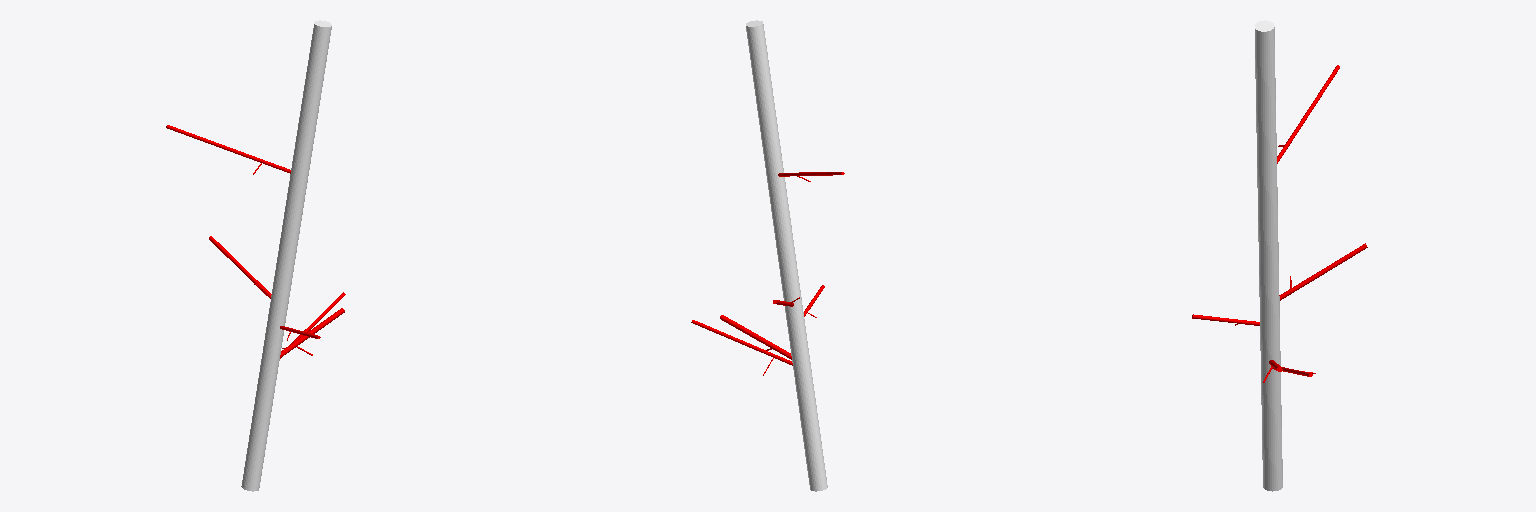
URDF robot description (tree_20.urdf):
<?xml version='1.0' encoding='UTF-8'?>
<robot name="tree_20.urdf">
  <link name="branch_0">
    <inertial>
      <origin xyz="0.0 0.0 0.0" rpy="0.0 -0.0 0.0"/>
      <mass value="0.1"/>
      <inertia ixx="0.001" ixy="0.0" ixz="0.0" iyy="0.001" iyz="0.0" izz="0.001"/>
    </inertial>
    <visual name="branch_0_visual">
      <geometry>
        <cylinder radius="0.18038426023424908" length="9.975201876077824"/>
      </geometry>
      <material name="branch_material"/>
      <origin xyz="0.7904359133537642 -0.07586227465981246 4.923984067733228" rpy="0.0 0.15988878451544758 -0.09568217184069576"/>
    </visual>
    <collision name="branch_0_collision">
      <geometry>
        <cylinder radius="0.18038426023424908" length="9.975201876077824"/>
      </geometry>
      <origin xyz="0.7904359133537642 -0.07586227465981246 4.923984067733228" rpy="0.0 0.15988878451544758 -0.09568217184069576"/>
    </collision>
  </link>
  <link name="branch_1">
    <inertial>
      <origin xyz="0.0 0.0 0.0" rpy="0.0 -0.0 0.0"/>
      <mass value="0.1"/>
      <inertia ixx="0.001" ixy="0.0" ixz="0.0" iyy="0.001" iyz="0.0" izz="0.001"/>
    </inertial>
    <visual name="branch_1_visual">
      <geometry>
        <cylinder radius="0.03774474441758952" length="2.400189508375378"/>
      </geometry>
      <material name="semantic_material"/>
      <origin xyz="0.0 0.0 0.0" rpy="0.0 -0.0 0.0"/>
    </visual>
    <collision name="branch_1_collision">
      <geometry>
        <cylinder radius="0.03774474441758952" length="2.400189508375378"/>
      </geometry>
      <origin xyz="0.0 0.0 0.0" rpy="0.0 -0.0 0.0"/>
    </collision>
  </link>
  <link name="branch_2">
    <inertial>
      <origin xyz="0.0 0.0 0.0" rpy="0.0 -0.0 0.0"/>
      <mass value="0.1"/>
      <inertia ixx="0.001" ixy="0.0" ixz="0.0" iyy="0.001" iyz="0.0" izz="0.001"/>
    </inertial>
    <visual name="branch_2_visual">
      <geometry>
        <cylinder radius="0.010394430391979874" length="0.6589251296964387"/>
      </geometry>
      <material name="semantic_material"/>
      <origin xyz="0.0 0.0 0.0" rpy="0.0 -0.0 0.0"/>
    </visual>
    <collision name="branch_2_collision">
      <geometry>
        <cylinder radius="0.010394430391979874" length="0.6589251296964387"/>
      </geometry>
      <origin xyz="0.0 0.0 0.0" rpy="0.0 -0.0 0.0"/>
    </collision>
  </link>
  <link name="branch_3">
    <inertial>
      <origin xyz="0.0 0.0 0.0" rpy="0.0 -0.0 0.0"/>
      <mass value="0.1"/>
      <inertia ixx="0.001" ixy="0.0" ixz="0.0" iyy="0.001" iyz="0.0" izz="0.001"/>
    </inertial>
    <visual name="branch_3_visual">
      <geometry>
        <cylinder radius="0.037364034852852675" length="1.427845669590025"/>
      </geometry>
      <material name="semantic_material"/>
      <origin xyz="0.0 0.0 0.0" rpy="0.0 -0.0 0.0"/>
    </visual>
    <collision name="branch_3_collision">
      <geometry>
        <cylinder radius="0.037364034852852675" length="1.427845669590025"/>
      </geometry>
      <origin xyz="0.0 0.0 0.0" rpy="0.0 -0.0 0.0"/>
    </collision>
  </link>
  <link name="branch_4">
    <inertial>
      <origin xyz="0.0 0.0 0.0" rpy="0.0 -0.0 0.0"/>
      <mass value="0.1"/>
      <inertia ixx="0.001" ixy="0.0" ixz="0.0" iyy="0.001" iyz="0.0" izz="0.001"/>
    </inertial>
    <visual name="branch_4_visual">
      <geometry>
        <cylinder radius="0.011379667966109796" length="0.2482696978293131"/>
      </geometry>
      <material name="semantic_material"/>
      <origin xyz="0.0 0.0 0.0" rpy="0.0 -0.0 0.0"/>
    </visual>
    <collision name="branch_4_collision">
      <geometry>
        <cylinder radius="0.011379667966109796" length="0.2482696978293131"/>
      </geometry>
      <origin xyz="0.0 0.0 0.0" rpy="0.0 -0.0 0.0"/>
    </collision>
  </link>
  <link name="branch_5">
    <inertial>
      <origin xyz="0.0 0.0 0.0" rpy="0.0 -0.0 0.0"/>
      <mass value="0.1"/>
      <inertia ixx="0.001" ixy="0.0" ixz="0.0" iyy="0.001" iyz="0.0" izz="0.001"/>
    </inertial>
    <visual name="branch_5_visual">
      <geometry>
        <cylinder radius="0.03791955954352519" length="2.8474135622926844"/>
      </geometry>
      <material name="semantic_material"/>
      <origin xyz="0.0 0.0 0.0" rpy="0.0 -0.0 0.0"/>
    </visual>
    <collision name="branch_5_collision">
      <geometry>
        <cylinder radius="0.03791955954352519" length="2.8474135622926844"/>
      </geometry>
      <origin xyz="0.0 0.0 0.0" rpy="0.0 -0.0 0.0"/>
    </collision>
  </link>
  <link name="branch_6">
    <inertial>
      <origin xyz="0.0 0.0 0.0" rpy="0.0 -0.0 0.0"/>
      <mass value="0.1"/>
      <inertia ixx="0.001" ixy="0.0" ixz="0.0" iyy="0.001" iyz="0.0" izz="0.001"/>
    </inertial>
    <visual name="branch_6_visual">
      <geometry>
        <cylinder radius="0.013617512897016449" length="0.36079640535275176"/>
      </geometry>
      <material name="semantic_material"/>
      <origin xyz="0.0 0.0 0.0" rpy="0.0 -0.0 0.0"/>
    </visual>
    <collision name="branch_6_collision">
      <geometry>
        <cylinder radius="0.013617512897016449" length="0.36079640535275176"/>
      </geometry>
      <origin xyz="0.0 0.0 0.0" rpy="0.0 -0.0 0.0"/>
    </collision>
  </link>
  <link name="branch_7">
    <inertial>
      <origin xyz="0.0 0.0 0.0" rpy="0.0 -0.0 0.0"/>
      <mass value="0.1"/>
      <inertia ixx="0.001" ixy="0.0" ixz="0.0" iyy="0.001" iyz="0.0" izz="0.001"/>
    </inertial>
    <visual name="branch_7_visual">
      <geometry>
        <cylinder radius="0.05273118631981353" length="1.8994002233759717"/>
      </geometry>
      <material name="semantic_material"/>
      <origin xyz="0.0 0.0 0.0" rpy="0.0 -0.0 0.0"/>
    </visual>
    <collision name="branch_7_collision">
      <geometry>
        <cylinder radius="0.05273118631981353" length="1.8994002233759717"/>
      </geometry>
      <origin xyz="0.0 0.0 0.0" rpy="0.0 -0.0 0.0"/>
    </collision>
  </link>
  <link name="branch_8">
    <inertial>
      <origin xyz="0.0 0.0 0.0" rpy="0.0 -0.0 0.0"/>
      <mass value="0.1"/>
      <inertia ixx="0.001" ixy="0.0" ixz="0.0" iyy="0.001" iyz="0.0" izz="0.001"/>
    </inertial>
    <visual name="branch_8_visual">
      <geometry>
        <cylinder radius="0.016765346954839583" length="0.4278671321782676"/>
      </geometry>
      <material name="semantic_material"/>
      <origin xyz="0.0 0.0 0.0" rpy="0.0 -0.0 0.0"/>
    </visual>
    <collision name="branch_8_collision">
      <geometry>
        <cylinder radius="0.016765346954839583" length="0.4278671321782676"/>
      </geometry>
      <origin xyz="0.0 0.0 0.0" rpy="0.0 -0.0 0.0"/>
    </collision>
  </link>
  <link name="branch_9">
    <inertial>
      <origin xyz="0.0 0.0 0.0" rpy="0.0 -0.0 0.0"/>
      <mass value="0.1"/>
      <inertia ixx="0.001" ixy="0.0" ixz="0.0" iyy="0.001" iyz="0.0" izz="0.001"/>
    </inertial>
    <visual name="branch_9_visual">
      <geometry>
        <cylinder radius="0.04438378173523104" length="2.041907034637372"/>
      </geometry>
      <material name="semantic_material"/>
      <origin xyz="0.0 0.0 0.0" rpy="0.0 -0.0 0.0"/>
    </visual>
    <collision name="branch_9_collision">
      <geometry>
        <cylinder radius="0.04438378173523104" length="2.041907034637372"/>
      </geometry>
      <origin xyz="0.0 0.0 0.0" rpy="0.0 -0.0 0.0"/>
    </collision>
  </link>
  <link name="branch_10">
    <inertial>
      <origin xyz="0.0 0.0 0.0" rpy="0.0 -0.0 0.0"/>
      <mass value="0.1"/>
      <inertia ixx="0.001" ixy="0.0" ixz="0.0" iyy="0.001" iyz="0.0" izz="0.001"/>
    </inertial>
    <visual name="branch_10_visual">
      <geometry>
        <cylinder radius="0.013203061680962165" length="0.3035128324777542"/>
      </geometry>
      <material name="semantic_material"/>
      <origin xyz="0.0 0.0 0.0" rpy="0.0 -0.0 0.0"/>
    </visual>
    <collision name="branch_10_collision">
      <geometry>
        <cylinder radius="0.013203061680962165" length="0.3035128324777542"/>
      </geometry>
      <origin xyz="0.0 0.0 0.0" rpy="0.0 -0.0 0.0"/>
    </collision>
  </link>
  <joint name="joint_0_1" type="fixed">
    <parent link="branch_0"/>
    <child link="branch_1"/>
    <axis xyz="1. 0. 0."/>
    <origin xyz="1.4772036322083566 0.3201979811019787 2.965992991704722" rpy="0.19857613575903213 1.2112541828904955 0.5365953244771278"/>
  </joint>
  <joint name="joint_0_3" type="fixed">
    <parent link="branch_0"/>
    <child link="branch_3"/>
    <axis xyz="1. 0. 0."/>
    <origin xyz="0.6455336309046366 -0.7488712677529321 3.5721640892343287" rpy="-0.7094142731754735 1.3287416125453497 -2.162076252684472"/>
  </joint>
  <joint name="joint_0_5" type="fixed">
    <parent link="branch_0"/>
    <child link="branch_5"/>
    <axis xyz="1. 0. 0."/>
    <origin xyz="-0.08431999610373121 0.5362747156105551 7.185487735271176" rpy="0.15742440858662426 1.1739504007924826 2.8053277844615585"/>
  </joint>
  <joint name="joint_0_7" type="fixed">
    <parent link="branch_0"/>
    <child link="branch_7"/>
    <axis xyz="1. 0. 0."/>
    <origin xyz="1.3133752331842767 0.03984714820083829 2.999256245539554" rpy="0.09034307535782839 1.2102762138681604 0.18764060108232913"/>
  </joint>
  <joint name="joint_0_9" type="fixed">
    <parent link="branch_0"/>
    <child link="branch_9"/>
    <axis xyz="1. 0. 0."/>
    <origin xyz="0.3384036405846603 0.8109927457465285 4.339185974572947" rpy="0.31071408452995786 1.090078163410727 2.2355563649641685"/>
  </joint>
  <joint name="joint_1_2" type="fixed">
    <parent link="branch_0"/>
    <child link="branch_2"/>
    <axis xyz="1. 0. 0."/>
    <origin xyz="0.8925004387838277 0.4585450368972629 2.6891865079043904" rpy="1.8028168274971825 0.369528089101726 -2.8909004002692504"/>
  </joint>
  <joint name="joint_3_4" type="fixed">
    <parent link="branch_0"/>
    <child link="branch_4"/>
    <axis xyz="1. 0. 0."/>
    <origin xyz="0.5352387664127026 -0.6129457485435067 3.467165235426268" rpy="-2.2003631926072282 0.3634557983861986 1.942688035107328"/>
  </joint>
  <joint name="joint_5_6" type="fixed">
    <parent link="branch_0"/>
    <child link="branch_6"/>
    <axis xyz="1. 0. 0."/>
    <origin xyz="0.28232280840751806 0.1787470069959892 6.868481317895418" rpy="2.081734438610991 0.5781955048353737 -0.8218077336806572"/>
  </joint>
  <joint name="joint_7_8" type="fixed">
    <parent link="branch_0"/>
    <child link="branch_8"/>
    <axis xyz="1. 0. 0."/>
    <origin xyz="1.1674911851697736 -0.07972236903346043 2.772881760289632" rpy="-2.357183000829148 0.737141430809926 -2.6919230002922325"/>
  </joint>
  <joint name="joint_9_10" type="fixed">
    <parent link="branch_0"/>
    <child link="branch_10"/>
    <axis xyz="1. 0. 0."/>
    <origin xyz="0.3814499629810986 0.3212167371569922 4.185422658050298" rpy="0.8663755439673487 0.1549659976300351 -1.6693078693313548"/>
  </joint>
  <material name="branch_material">
    <color rgba="1. 1. 1. 1."/>
  </material>
  <material name="semantic_material">
    <color rgba="1. 0. 0. 1."/>
  </material>
</robot>

--- Render facts (derived) ---
The picture shows the robot from 3 angles, left to right: view 1: azimuth 30°, elevation 25°; view 2: azimuth 150°, elevation 25°; view 3: azimuth 270°, elevation 25°; orthographic projection.
Model tree_20.urdf with 11 links and 10 joints (10 fixed), rooted at branch_0, posed every joint at zero.
Visible links, largest first — view 1: branch_0; view 2: branch_0; view 3: branch_0.
Link boxes in pixels (x1,y1,x2,y2): branch_0: (241,20,331,491); branch_0: (746,20,827,491); branch_0: (1255,20,1282,491).
Bounding box of the posed robot: 3.82 × 3.16 × 9.91 m (x, y, z).
Geometry: primitives only (box / cylinder / sphere), no mesh files.